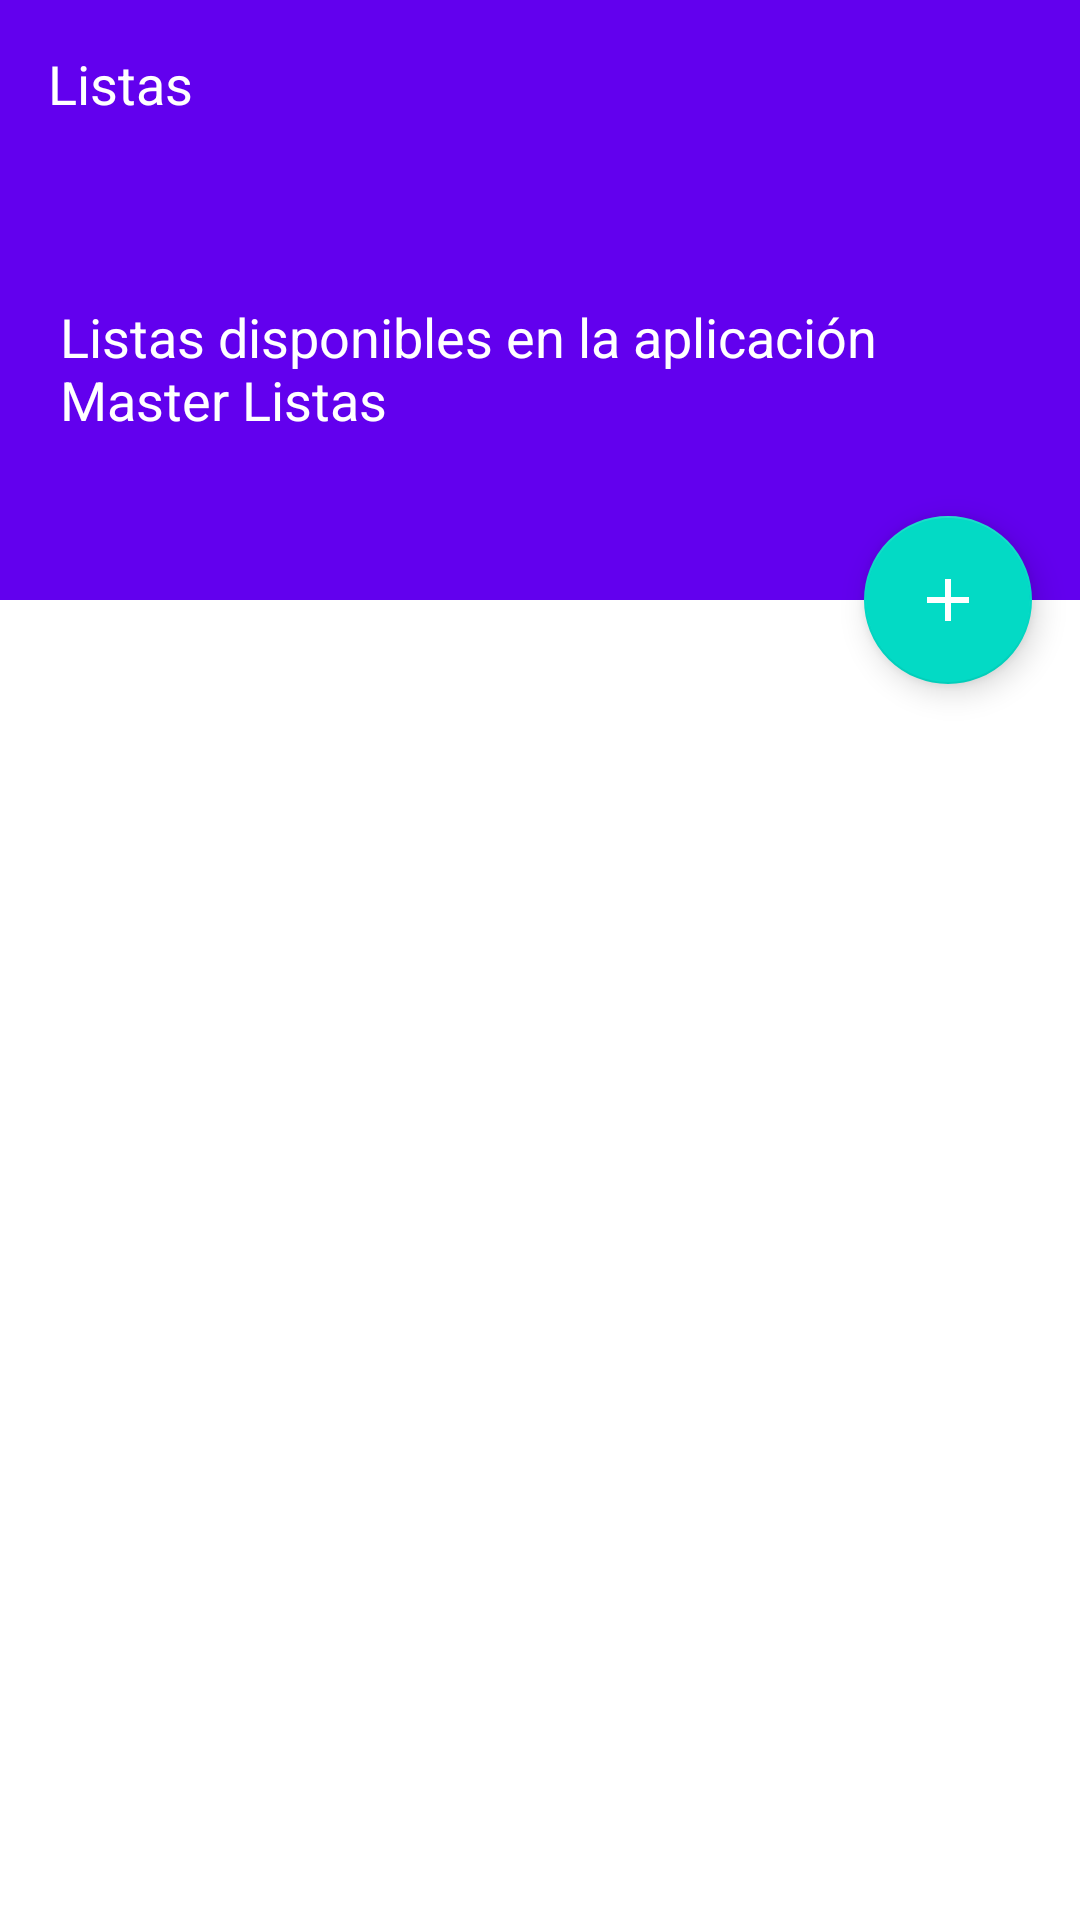

Screen size 1080px x 1920px. Icon name, then its center in pixels as (x,y):
fab plus: (948,600)
